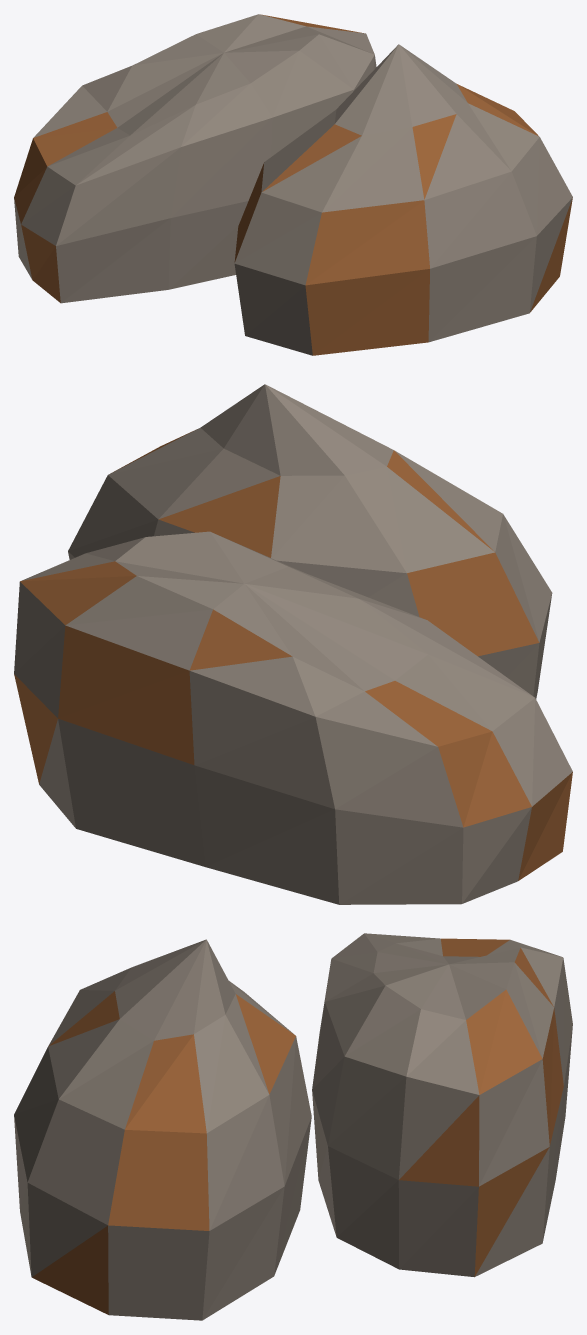
File: item_rm_steel_c.obj
The picture shows the model from 3 angles, top to bottom: view 1: azimuth 30°, elevation 25°; view 2: azimuth 150°, elevation 25°; view 3: azimuth 270°, elevation 25°; orthographic projection. The views are drawn at different scales.
Size of the model in its own units: 0.849 by 0.44 by 0.7448.
